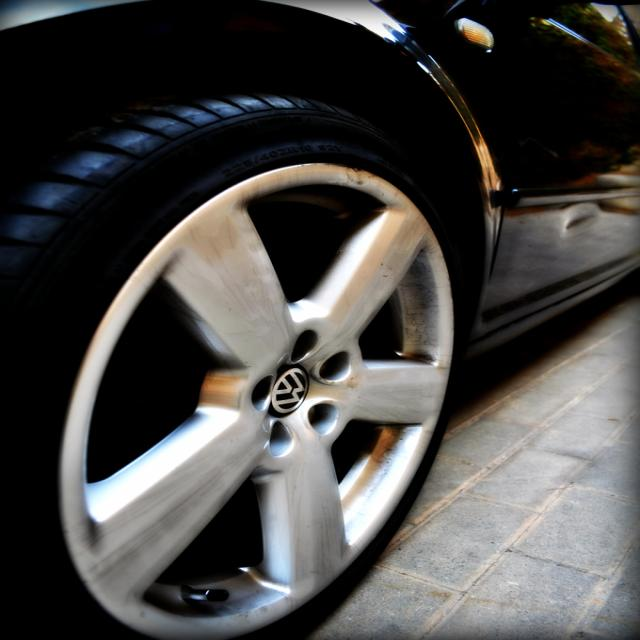car: (21, 0, 528, 638)
